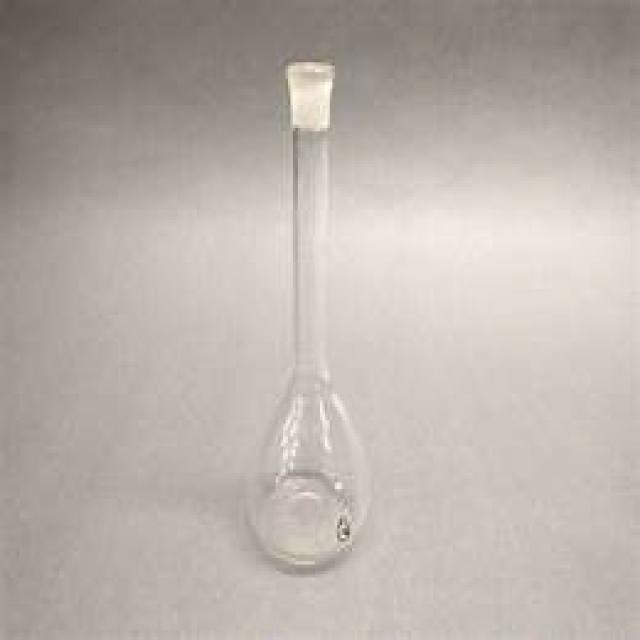Volumetric flask: (220, 52, 373, 574)
